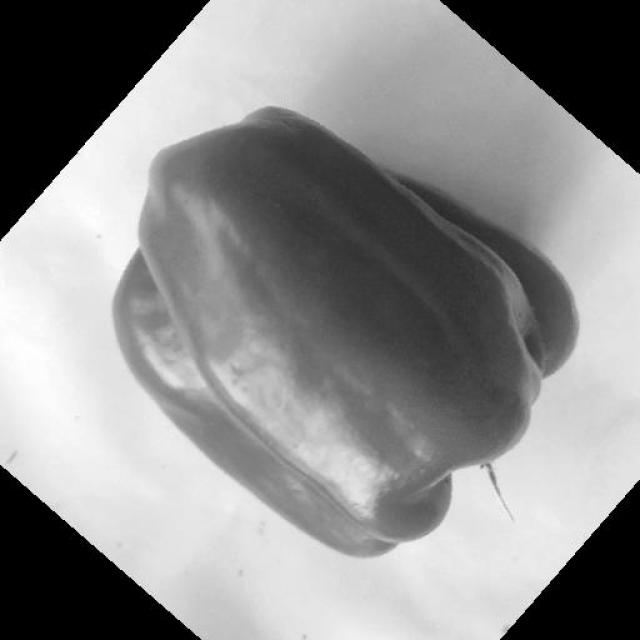Fresh_Capsicum: (110, 131, 542, 546)
